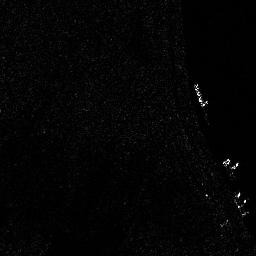ship: (193, 82, 206, 107)
